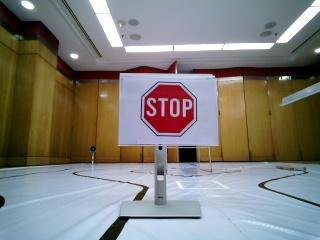stop: (129, 78, 209, 140)
